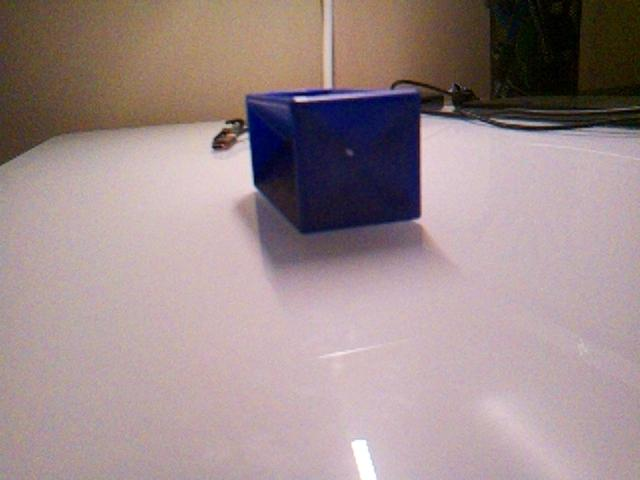blue: (244, 85, 424, 235)
